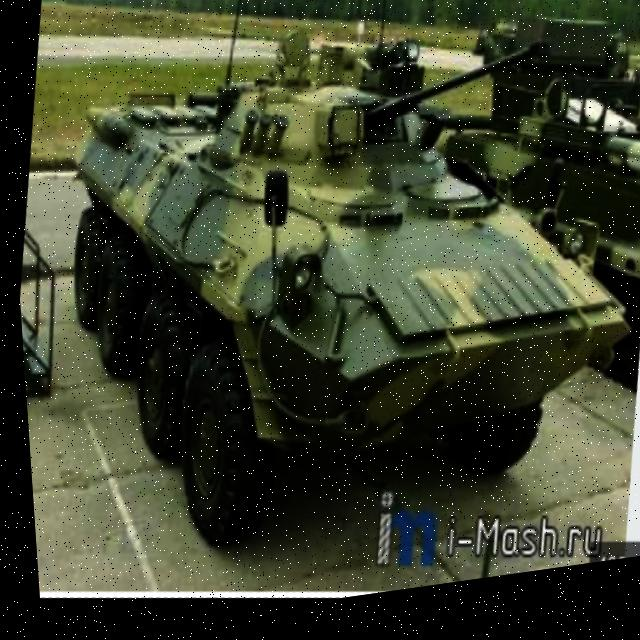MIL_APC: (7, 0, 640, 612)
